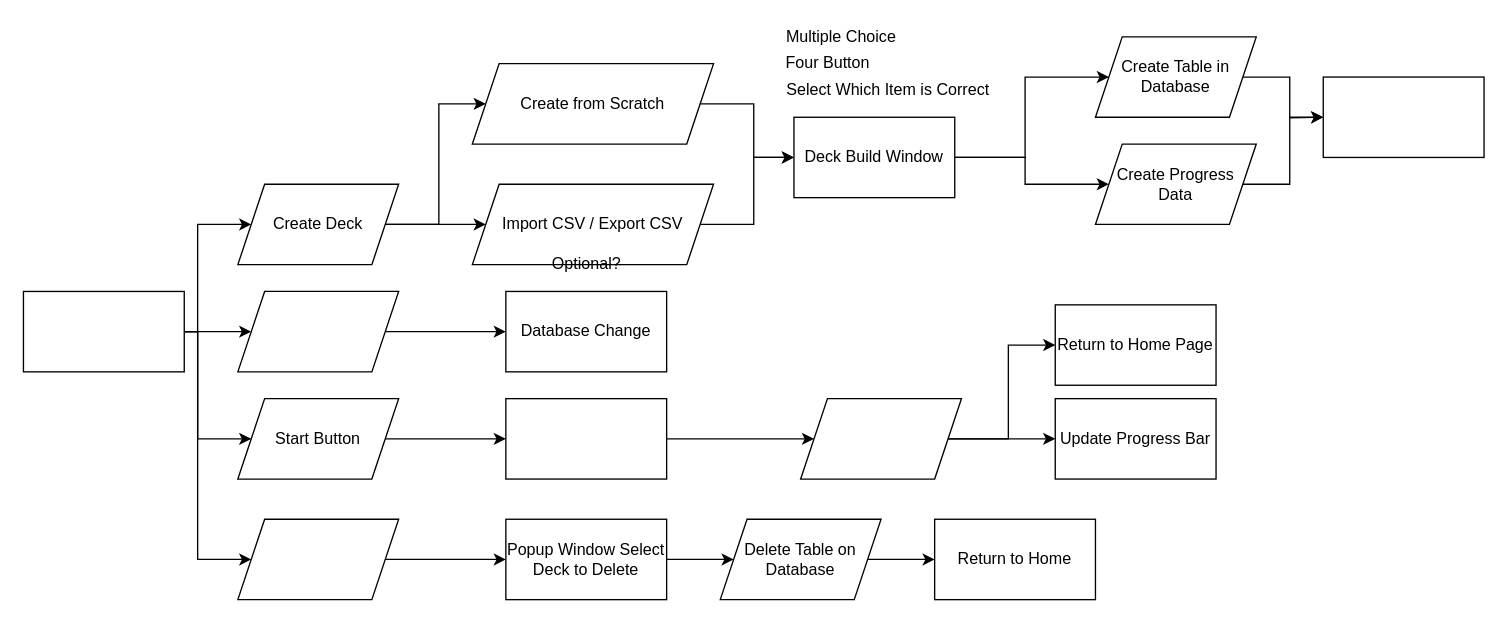
This 1508x623 diagram has some shape labels left out. The shapes that lost their labels are listed below. From the top down, each one's centre as x and y in pixels, then its label:
At pixel 1403 116: "Return Home".
At pixel 103 331: "Front Page".
At pixel 318 331: "Dropdown".
At pixel 586 438: "Screen Change".
At pixel 880 438: "End Session".
At pixel 318 559: "Delete Deck".
